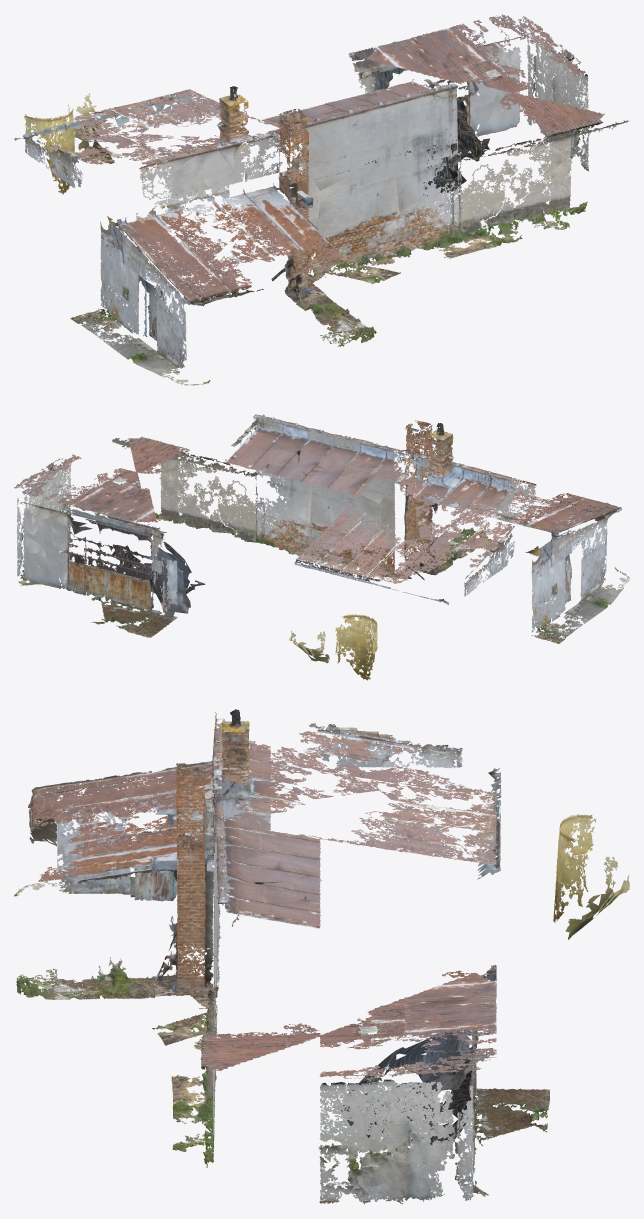
File: storage_building.glb
The picture shows the model from 3 angles, top to bottom: view 1: azimuth 30°, elevation 25°; view 2: azimuth 150°, elevation 25°; view 3: azimuth 270°, elevation 25°; orthographic projection. The views are drawn at different scales.
Visible parts, largest first — view 1: Merged; view 2: Merged; view 3: Merged.
Part boxes in pixels (x1=…): Merged: x1=14, y1=14, x2=628, y2=385; Merged: x1=14, y1=414, x2=629, y2=680; Merged: x1=14, y1=709, x2=629, y2=1204.
Size of the model in its own units: 18.68 by 6.81 by 14.51.
7 materials, 7 textured.
